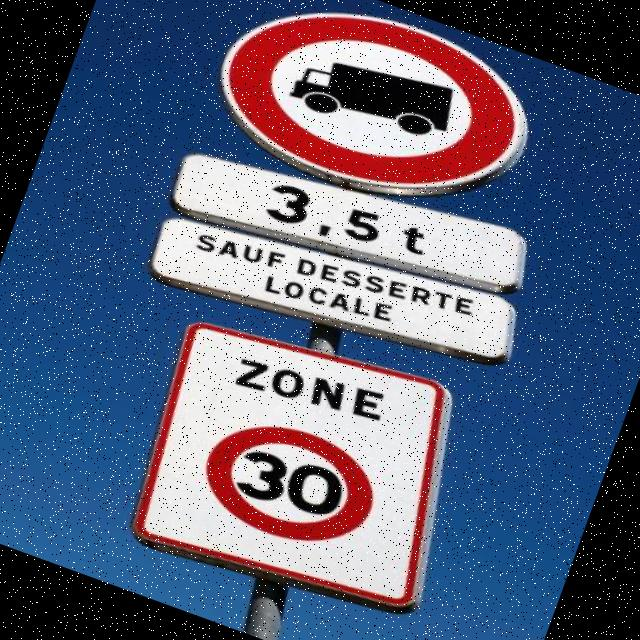do_not_enter: (185, 0, 558, 246)
